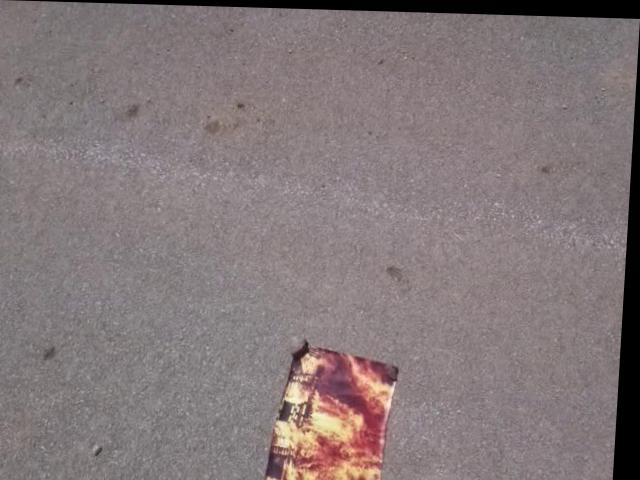fire-poster: (267, 335, 408, 480)
